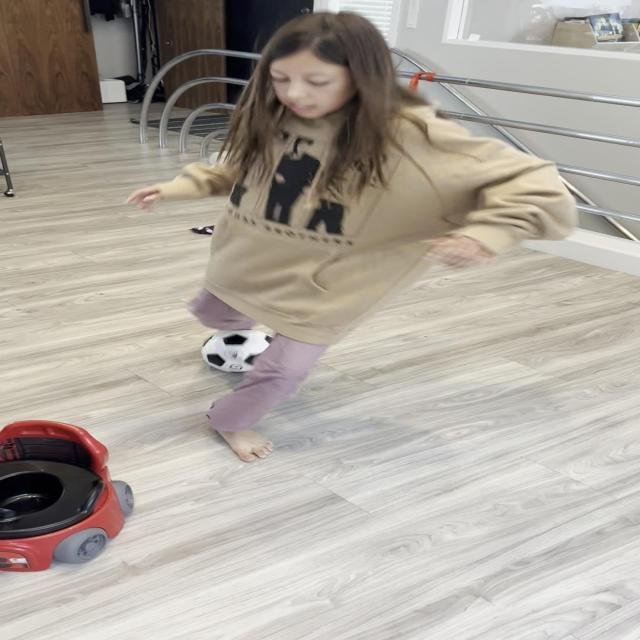Soccer Ball: (202, 328, 282, 372)
